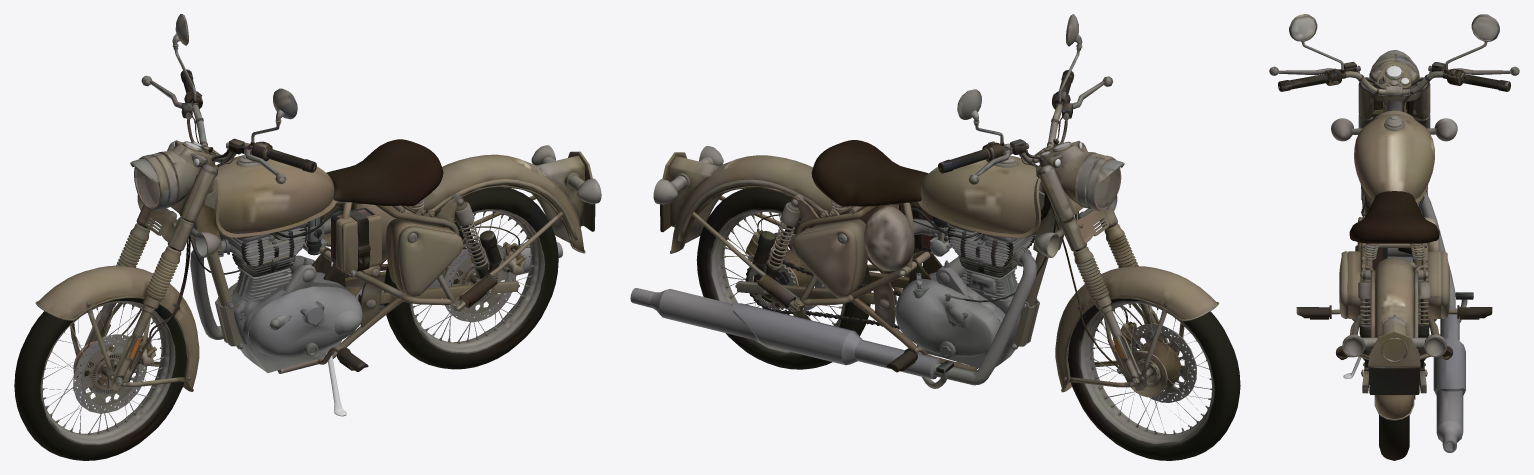
File: classic350.lite-DlncRUOG.glb
3 renders of one model, left to right at view 1: azimuth 30°, elevation 25°; view 2: azimuth 150°, elevation 25°; view 3: azimuth 270°, elevation 25°, orthographic. The views are drawn at different scales.
Visible parts, largest first — view 1: object_1, object_2, object_4, object_3, object_0; view 2: object_3, object_2, object_1, object_4, object_0, Sphere006_glass_0001; view 3: object_2, object_0, object_4, object_3, object_1.
Part boxes in pixels (x1,y1,x2,y2): object_1: (14,187,558,460); object_2: (204,139,463,373); object_4: (35,14,316,391); object_3: (190,205,563,372); object_0: (345,145,601,311); object_3: (630,205,1056,388); object_2: (792,140,1050,372); object_1: (696,187,1240,460); object_4: (938,14,1219,392); object_0: (653,146,909,329); Sphere006_glass_0001: (1095,167,1121,208); object_2: (1296,101,1492,327); object_0: (1336,257,1453,420); object_4: (1269,14,1519,216); object_3: (1364,192,1473,452); object_1: (1361,209,1427,460).
Bounding box in the file's own units: 402 × 250 × 169.
Materials: 8 (8 with a texture image).
